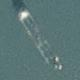ship: (0, 0, 27, 34)
